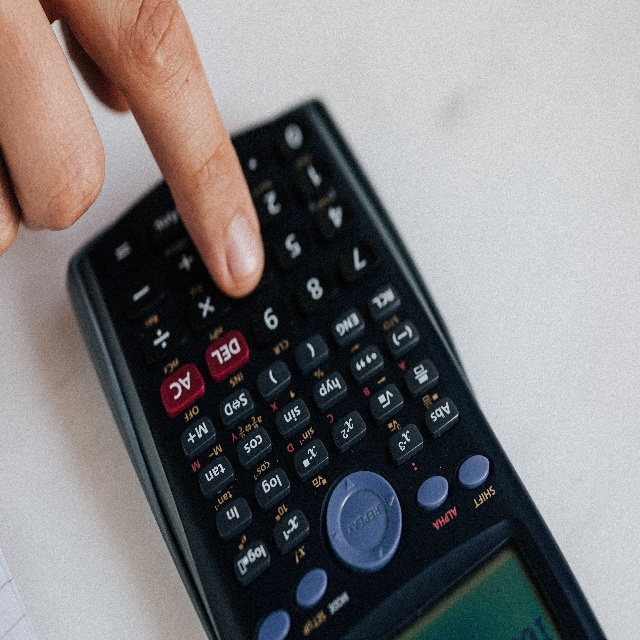Sin_guantes: (0, 0, 264, 291)
